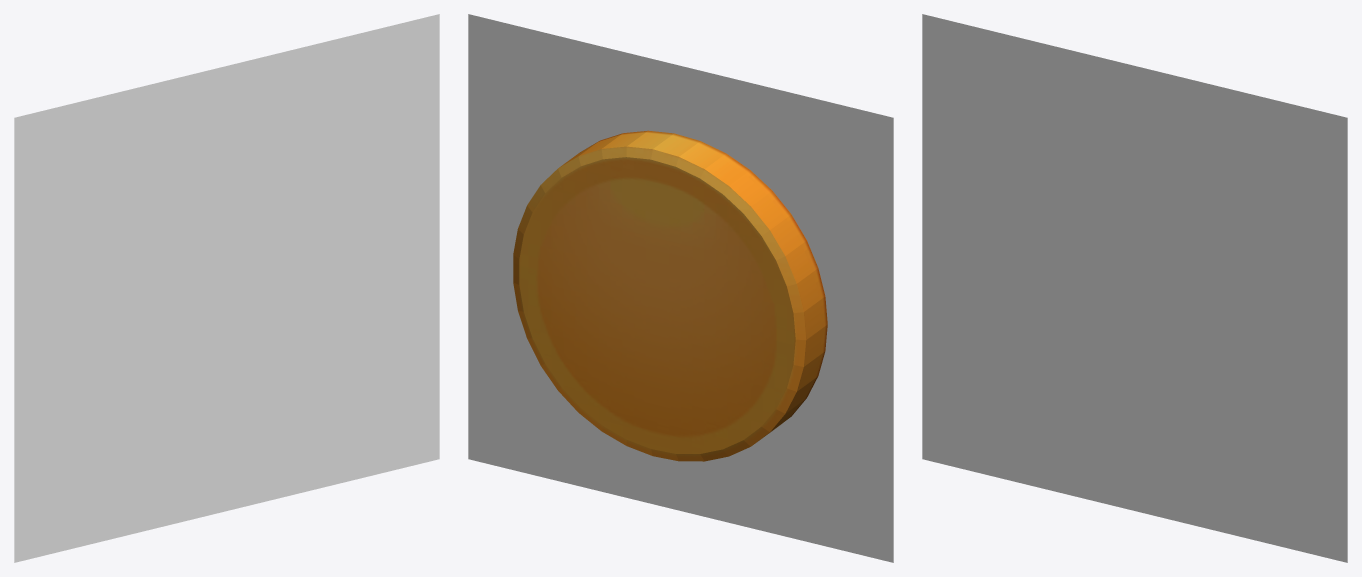
Rendered from GraphicsHolder.fbx.
3 renders of one model, left to right at view 1: azimuth 30°, elevation 25°; view 2: azimuth 150°, elevation 25°; view 3: azimuth 330°, elevation 25°, orthographic.
Visible parts, largest first — view 1: Shadow; view 2: Shadow, DamageCounterObject; view 3: Shadow.
Part boxes in pixels (x1,y1,x2,y2): Shadow: [14, 14, 439, 562]; Shadow: [468, 14, 893, 562]; DamageCounterObject: [513, 130, 827, 461]; Shadow: [922, 14, 1347, 562].
Size of the model in its own units: 2.45 by 2.45 by 0.2366.
